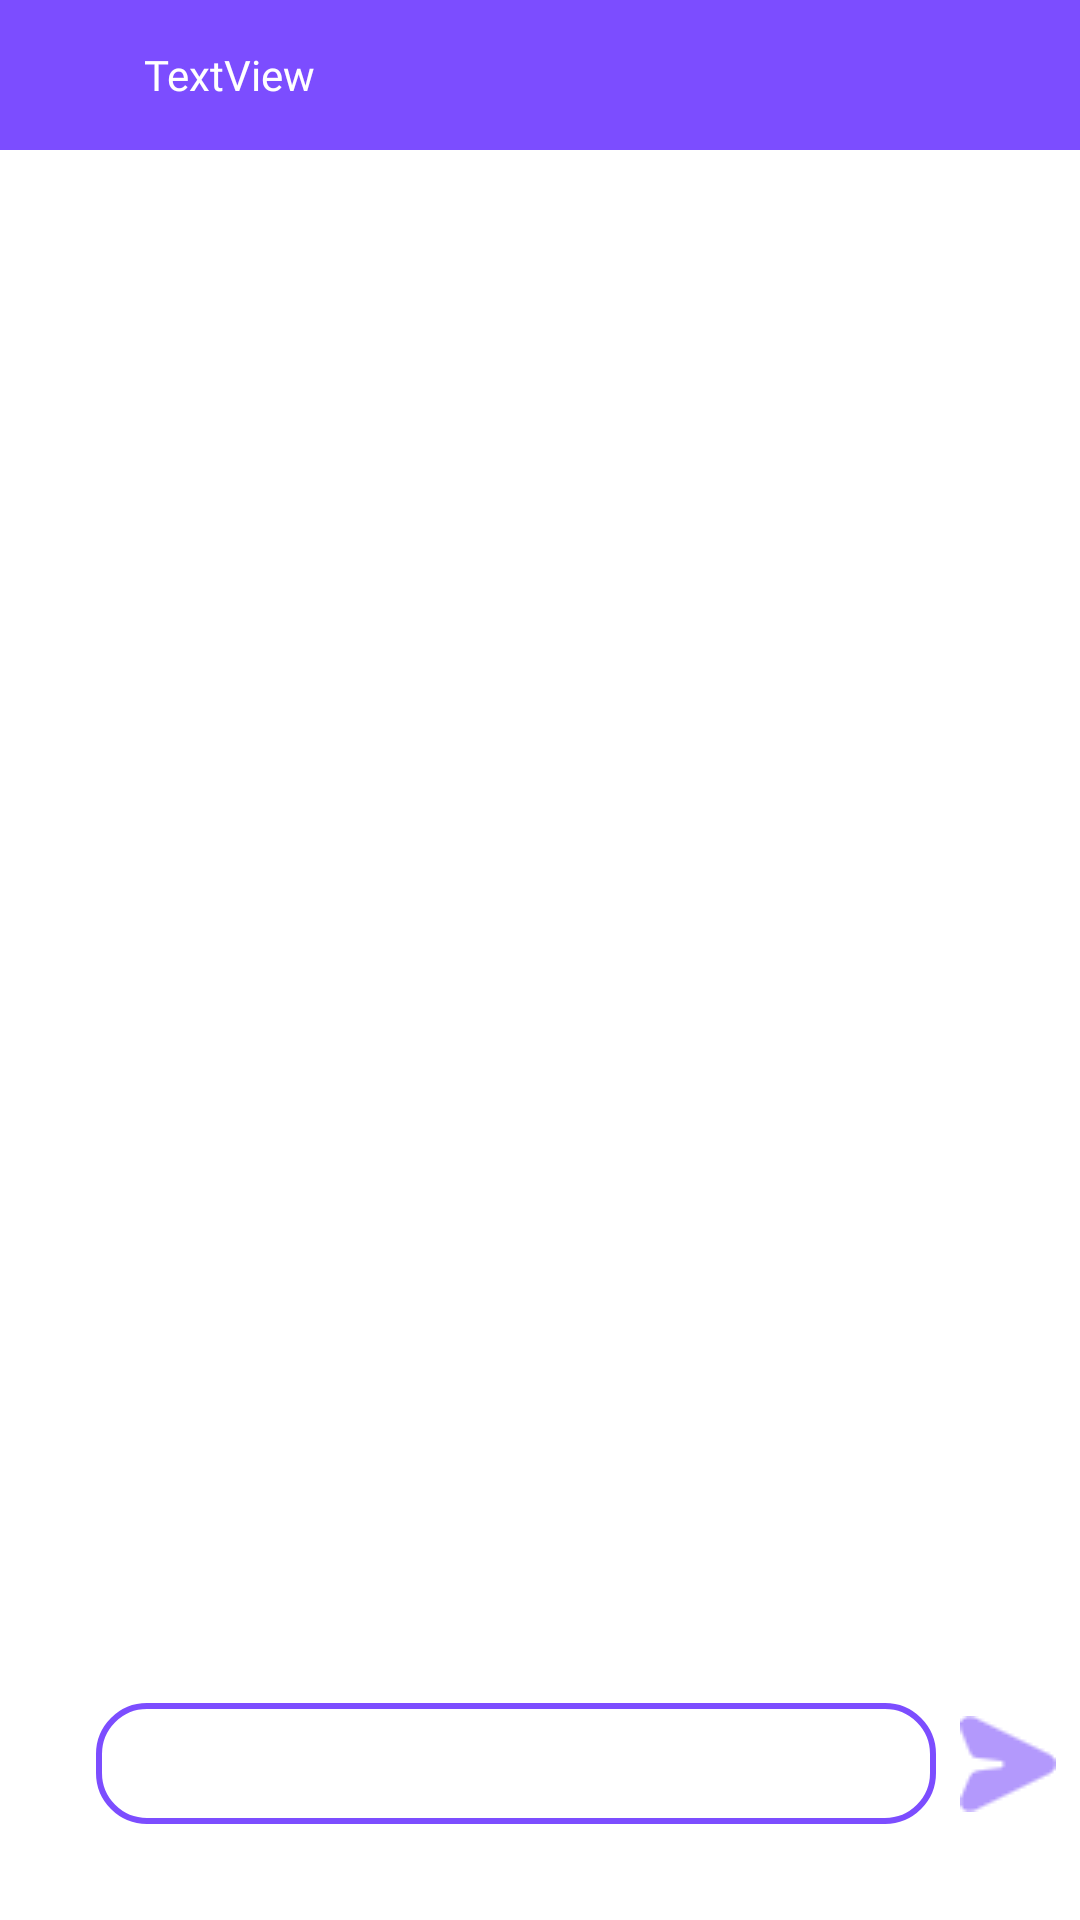

Screen size 1080w x 1920h. Icon name, then its box in pixels as (x1, y1, x2, y2):
send: (960, 1716, 1056, 1812)
